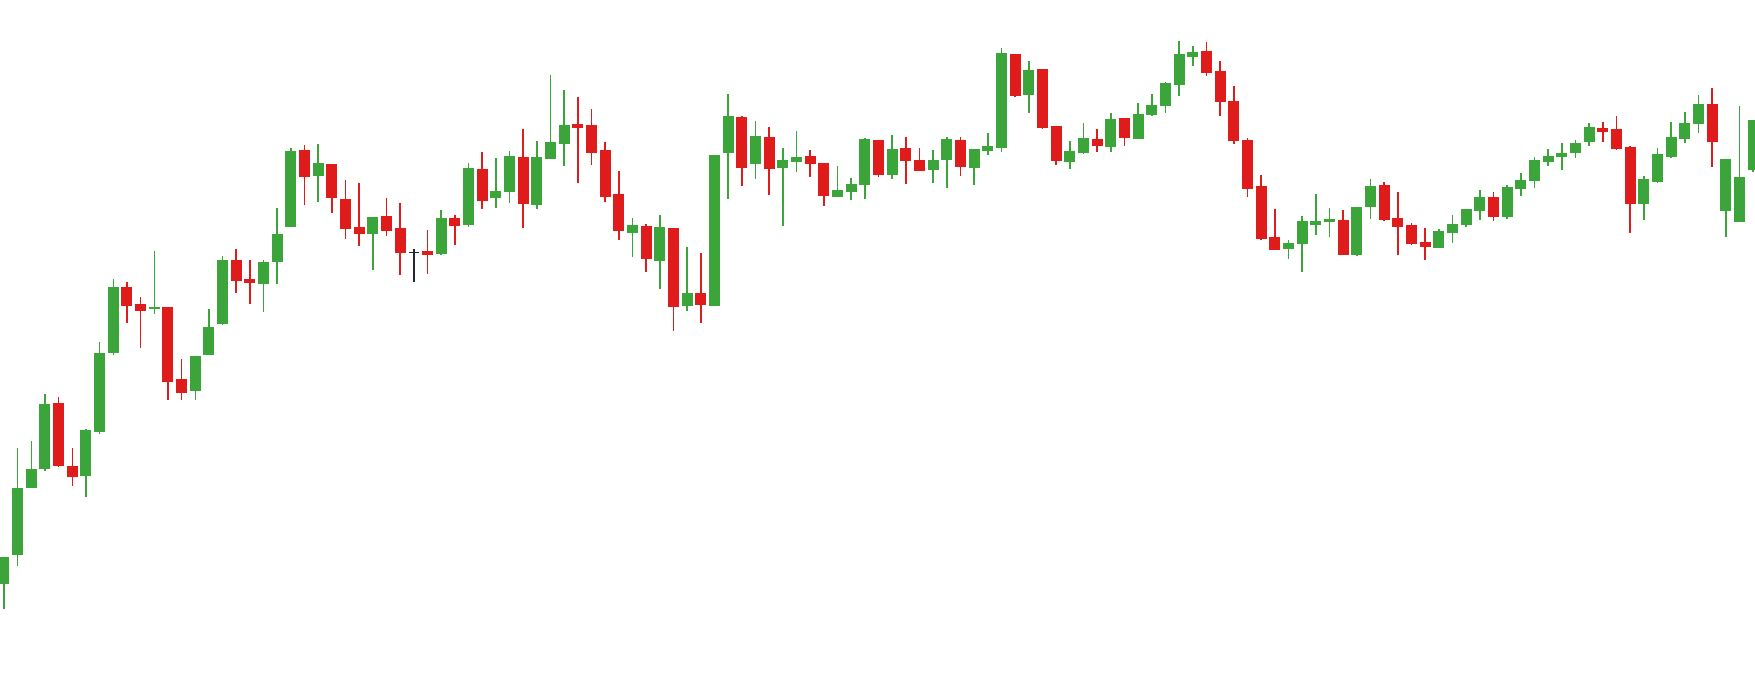buy: (1487, 169, 1652, 241)
sell: (1020, 41, 1211, 128)
